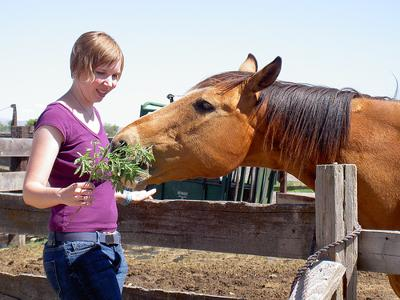person: (22, 31, 158, 300)
